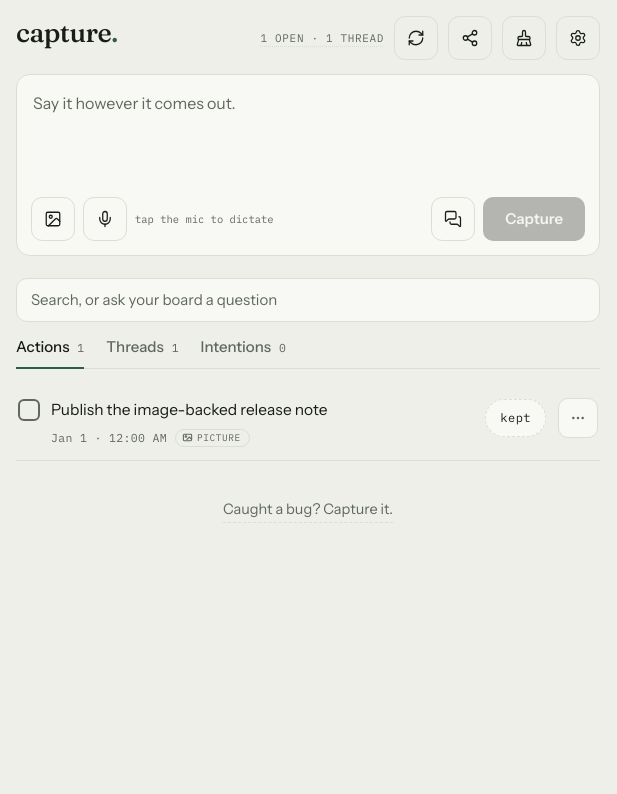
Test: manual Action image-owner moves › move keeps the rendered link, completion, reload, sync and backup on the moved owner
The image size is (617, 794).
Check: the text "Publish the image-backed release note" is shown, box [51,400,327,418]
Click the button "picture" at [212, 438], box [175,429,250,447]
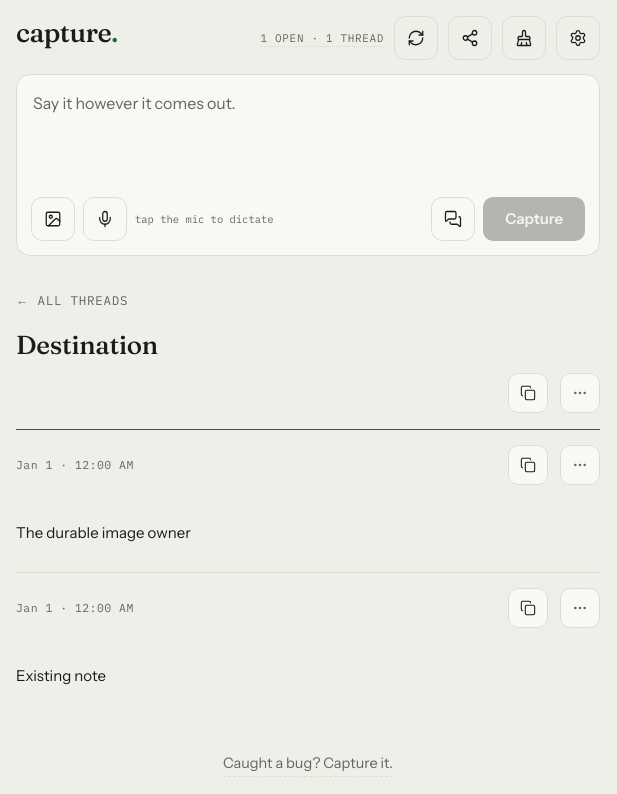
Check: the element with class "frag" shows "The durable image owner", box [16,523,191,542]
